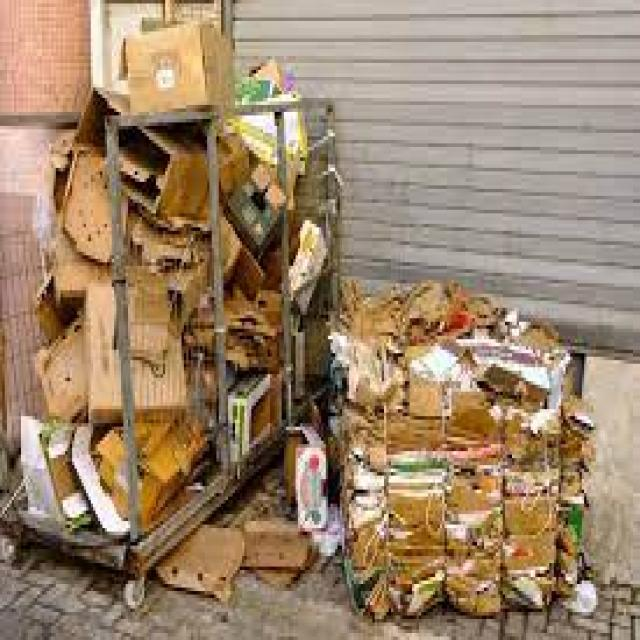cardboard: (35, 28, 223, 476), (328, 280, 563, 615), (233, 70, 330, 570), (70, 497, 228, 588)
